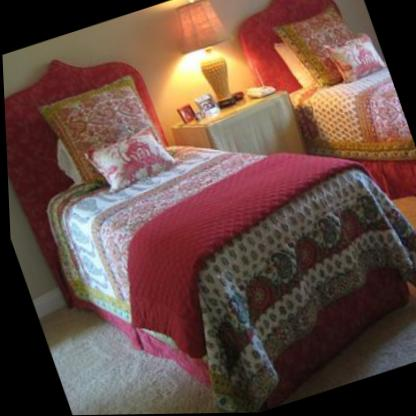Bed: (0, 0, 416, 416), (228, 0, 416, 239)
